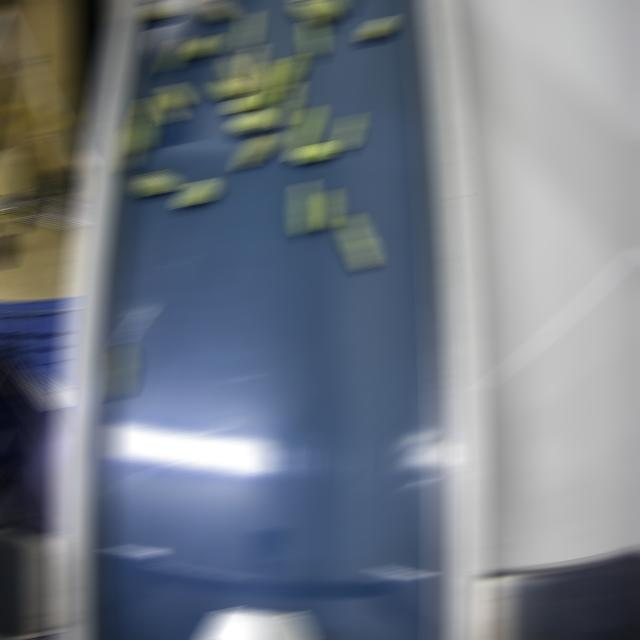Baby Potato: (339, 213, 375, 269), (289, 104, 320, 160), (235, 132, 281, 168), (132, 94, 158, 152), (292, 179, 316, 234), (109, 342, 132, 398), (176, 178, 217, 207), (238, 45, 262, 94), (273, 83, 299, 127), (272, 54, 302, 92), (257, 58, 280, 104), (133, 170, 175, 195), (119, 124, 141, 170), (334, 112, 359, 152), (230, 109, 271, 132), (293, 0, 335, 22), (316, 188, 338, 230), (161, 36, 187, 71), (222, 54, 248, 89), (359, 15, 393, 40), (159, 82, 190, 108), (302, 18, 322, 58), (226, 92, 266, 112), (298, 141, 334, 163), (154, 92, 180, 122), (186, 34, 218, 58), (196, 1, 234, 20), (238, 11, 256, 50), (210, 78, 244, 98), (140, 1, 176, 19), (316, 1, 343, 18)
